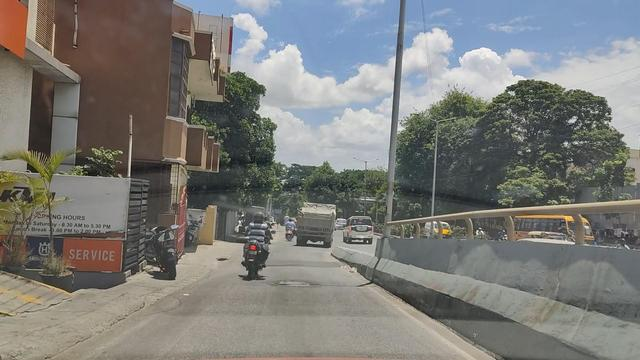HMV: (293, 201, 341, 254)
RoadDamages: (273, 271, 318, 293), (212, 251, 240, 270)
